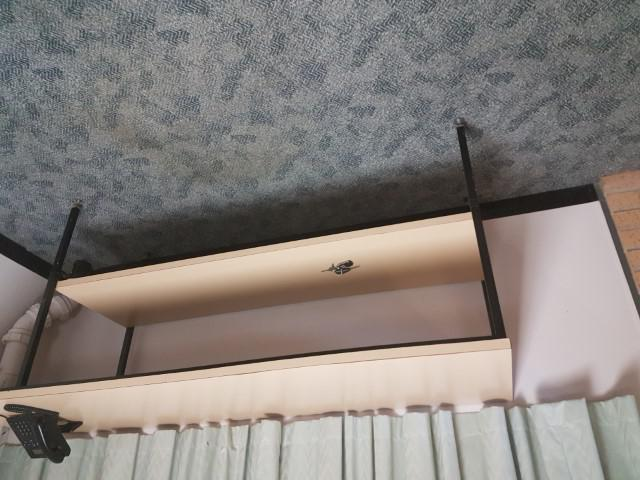key: (334, 265, 364, 277)
